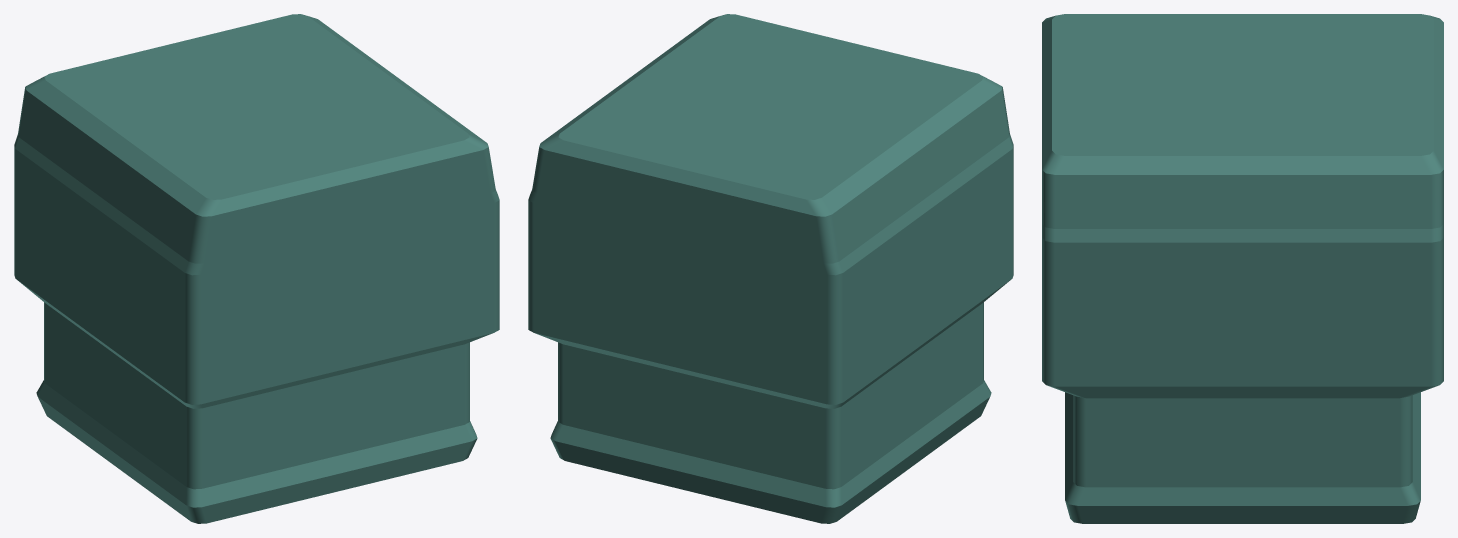
File: machine-packer-unit-authored-atlas.glb
The picture shows the model from 3 angles, left to right: view 1: azimuth 30°, elevation 25°; view 2: azimuth 150°, elevation 25°; view 3: azimuth 270°, elevation 25°; orthographic projection. The views are drawn at different scales.
Parts seen in each view (by area): view 1: Authored surface; view 2: Authored surface; view 3: Authored surface.
Boxes of the visible parts, x1,y1,x2,y2 form: Authored surface: (14,14,499,523); Authored surface: (528,14,1013,523); Authored surface: (1042,14,1443,523).
Size of the model in its own units: 1 by 1 by 1.
Materials: 1 (1 with a texture image).
